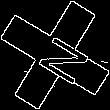N_NW: (23, 24, 87, 86)
